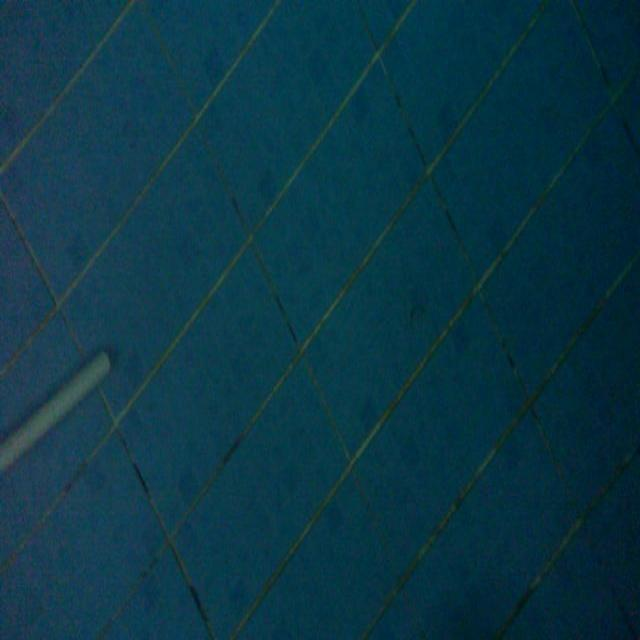Cube: (0, 342, 113, 476)
